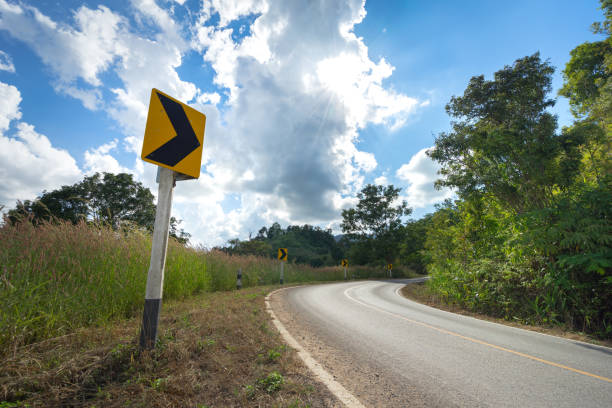right turn: (144, 89, 203, 173), (276, 246, 289, 262), (341, 256, 349, 268), (388, 263, 393, 271)
